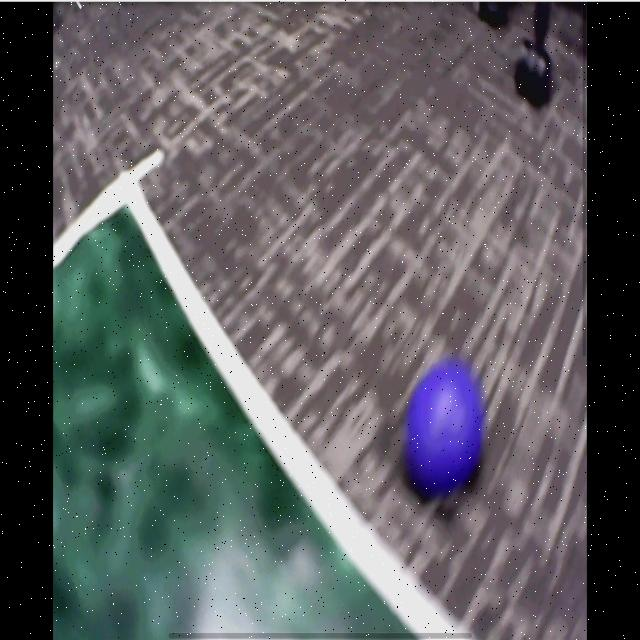ball: (407, 366, 487, 497)
